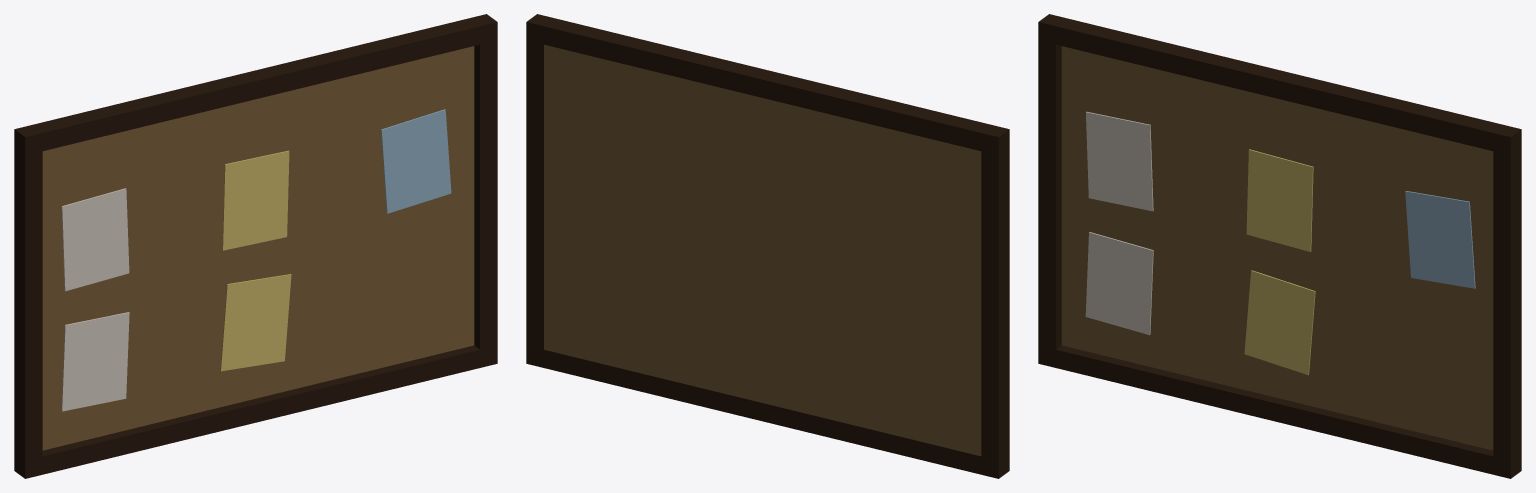
Rendered from corkboard.glb.
The picture shows the model from 3 angles, left to right: view 1: azimuth 30°, elevation 25°; view 2: azimuth 150°, elevation 25°; view 3: azimuth 330°, elevation 25°; orthographic projection.
Parts seen in each view (by area): view 1: corkboard; view 2: corkboard; view 3: corkboard.
Boxes of the visible parts, x1,y1,x2,y2 form: corkboard: (14, 14, 497, 478); corkboard: (526, 14, 1009, 478); corkboard: (1038, 14, 1521, 478).
Size of the model in its own units: 1.62 by 1.12 by 0.065.
